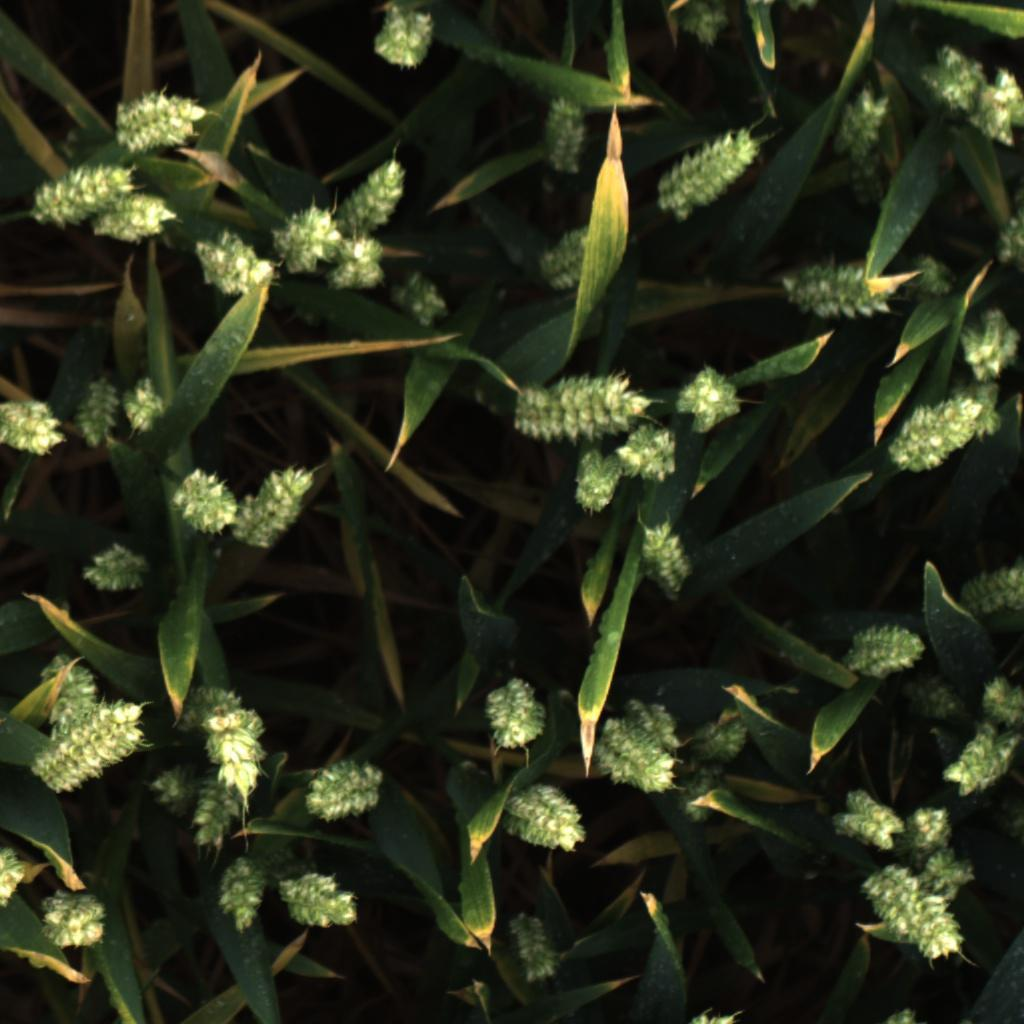0-0: (26, 693, 151, 800), (497, 362, 657, 445), (651, 122, 761, 224), (862, 868, 968, 965), (771, 255, 894, 325), (234, 460, 321, 555), (329, 152, 416, 247), (492, 777, 591, 860), (888, 390, 984, 475), (593, 714, 688, 799), (27, 158, 135, 230), (31, 645, 111, 741), (110, 85, 210, 161), (191, 222, 275, 302), (939, 721, 1024, 800), (201, 705, 267, 805), (294, 754, 386, 824), (911, 41, 991, 121), (825, 779, 906, 858), (164, 459, 242, 540), (481, 673, 552, 761), (279, 861, 363, 934), (187, 761, 254, 852), (670, 362, 747, 441), (366, 0, 442, 80), (533, 87, 595, 182), (33, 883, 111, 957), (501, 905, 574, 984), (633, 515, 700, 600), (889, 664, 972, 731), (955, 303, 1024, 383), (838, 618, 927, 677), (268, 200, 336, 277), (828, 86, 895, 164), (607, 423, 690, 485), (525, 218, 595, 291), (0, 387, 68, 462), (949, 555, 1024, 623), (212, 852, 270, 939), (97, 189, 179, 250), (322, 228, 387, 304), (566, 442, 629, 519), (973, 60, 1024, 155), (383, 264, 455, 330), (67, 371, 124, 451), (79, 539, 146, 600), (919, 843, 982, 907), (174, 683, 246, 737), (694, 704, 759, 763), (619, 696, 685, 754), (898, 806, 969, 859), (152, 755, 212, 811), (119, 375, 170, 440), (672, 0, 735, 52), (968, 367, 1010, 441), (996, 180, 1024, 277), (910, 248, 960, 302), (977, 670, 1024, 723), (0, 845, 29, 913)
